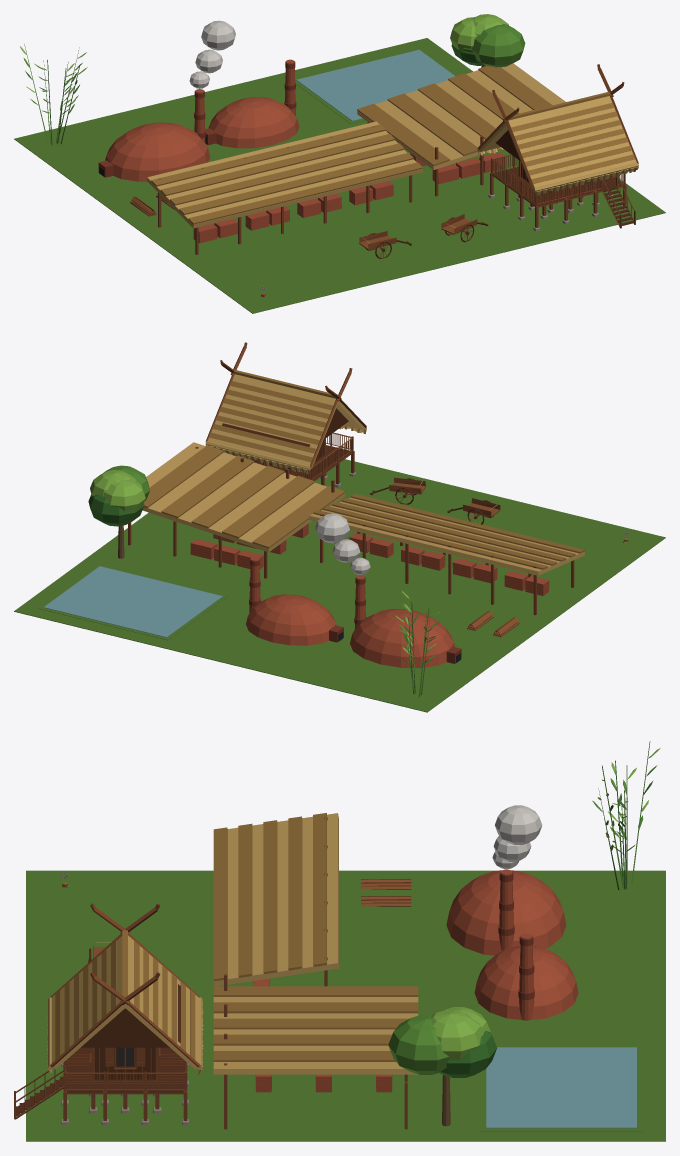
File: factory_4.glb
3 views of the same model, one above another, from view 1: azimuth 30°, elevation 25°; view 2: azimuth 150°, elevation 25°; view 3: azimuth 270°, elevation 25° (orthographic). The views are drawn at different scales.
Parts seen in each view (by area): view 1: body; view 2: body; view 3: body.
Boxes of the visible parts, left/top/right/bottom form: body: left=14, top=14, right=665, bottom=313; body: left=14, top=342, right=665, bottom=712; body: left=14, top=741, right=665, bottom=1141.
Size of the model in its own units: 32.22 by 9.06 by 32.5.
